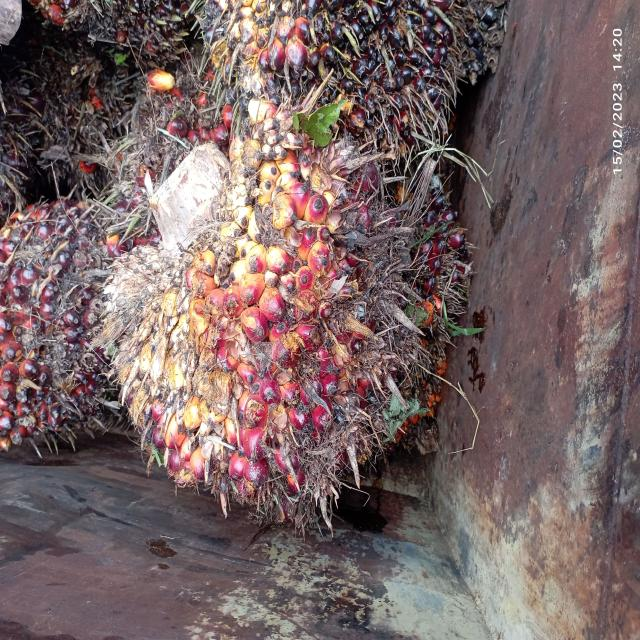fraksi 1: (73, 81, 452, 579)
